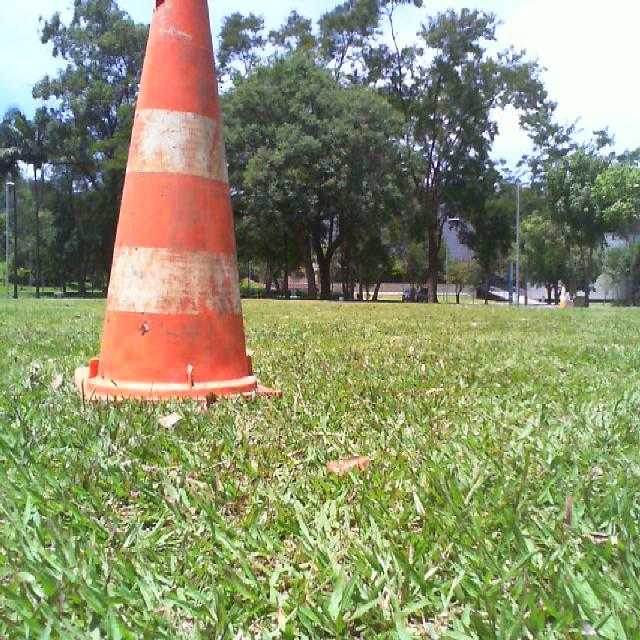cone: (74, 1, 282, 403)
